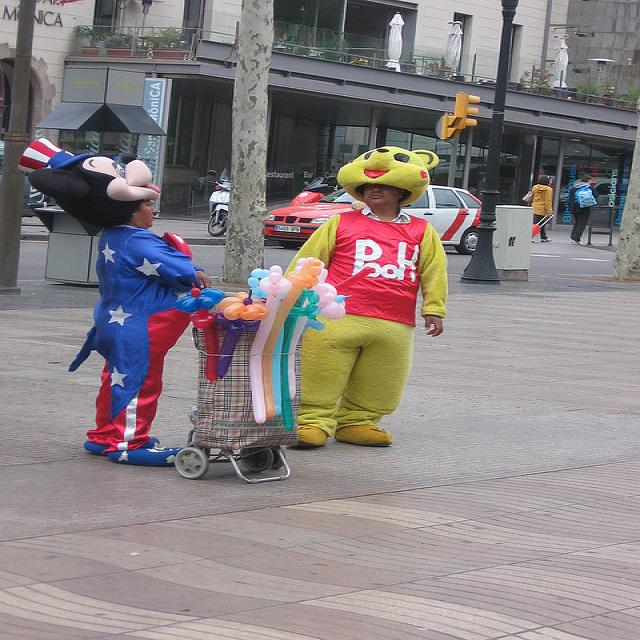motor: (199, 170, 231, 236), (291, 173, 340, 206)
